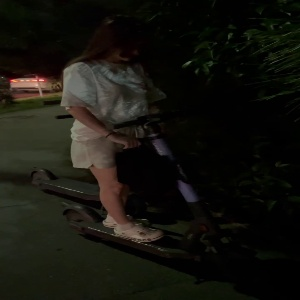human on a scooter: (58, 20, 257, 280)
